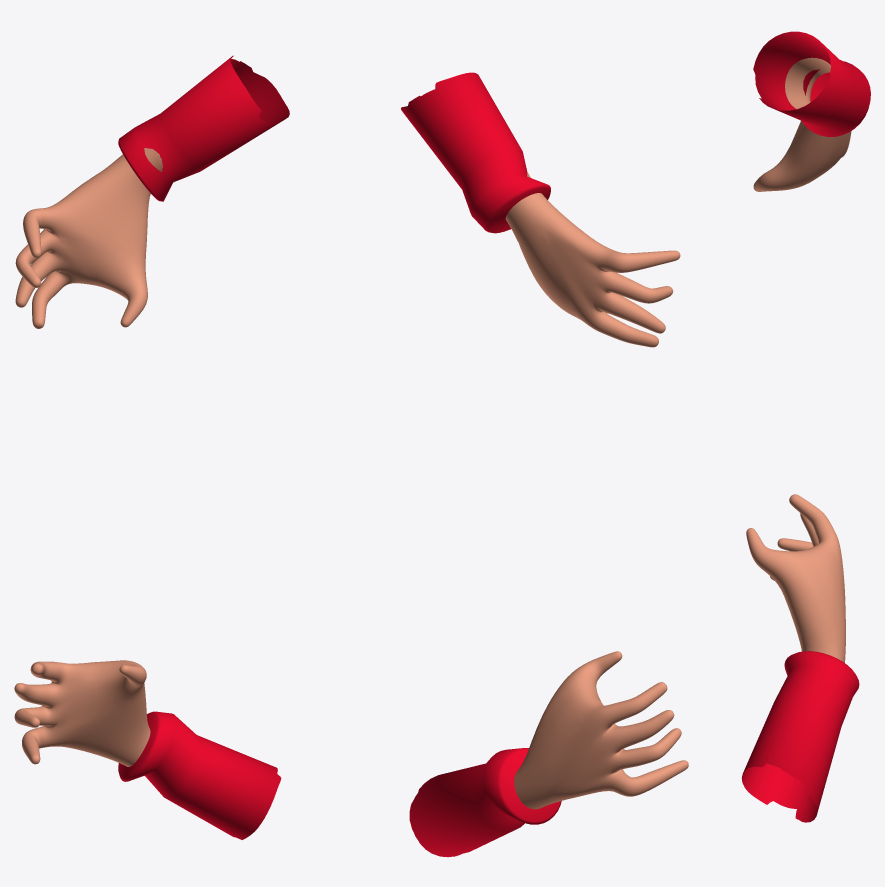
Rendered from new Hands.fbx.
3 renders of one model, left to right at view 1: azimuth 30°, elevation 25°; view 2: azimuth 150°, elevation 25°; view 3: azimuth 270°, elevation 25°, orthographic.
Visible parts, largest first — view 1: HandLeft, SleeveLeft, HandRight, SleeveRight; view 2: HandRight, HandLeft, SleeveLeft, SleeveRight; view 3: SleeveRight, HandRight, SleeveLeft, HandLeft.
Part boxes in pixels (left/top/right/bottom): HandLeft: left=15, top=148, right=162, bottom=328; SleeveLeft: left=118, top=55, right=289, bottom=201; HandRight: left=14, top=660, right=150, bottom=766; SleeveRight: left=118, top=711, right=281, bottom=839; HandRight: left=514, top=651, right=688, bottom=809; HandLeft: left=505, top=172, right=680, bottom=347; SleeveLeft: left=401, top=72, right=550, bottom=233; SleeveRight: left=409, top=748, right=561, bottom=857; SleeveRight: left=741, top=651, right=859, bottom=822; HandRight: left=746, top=494, right=845, bottom=662; SleeveLeft: left=753, top=31, right=870, bottom=136; HandLeft: left=753, top=57, right=851, bottom=191.
Bounding box in the file's own units: 139 × 369 × 60.03.
